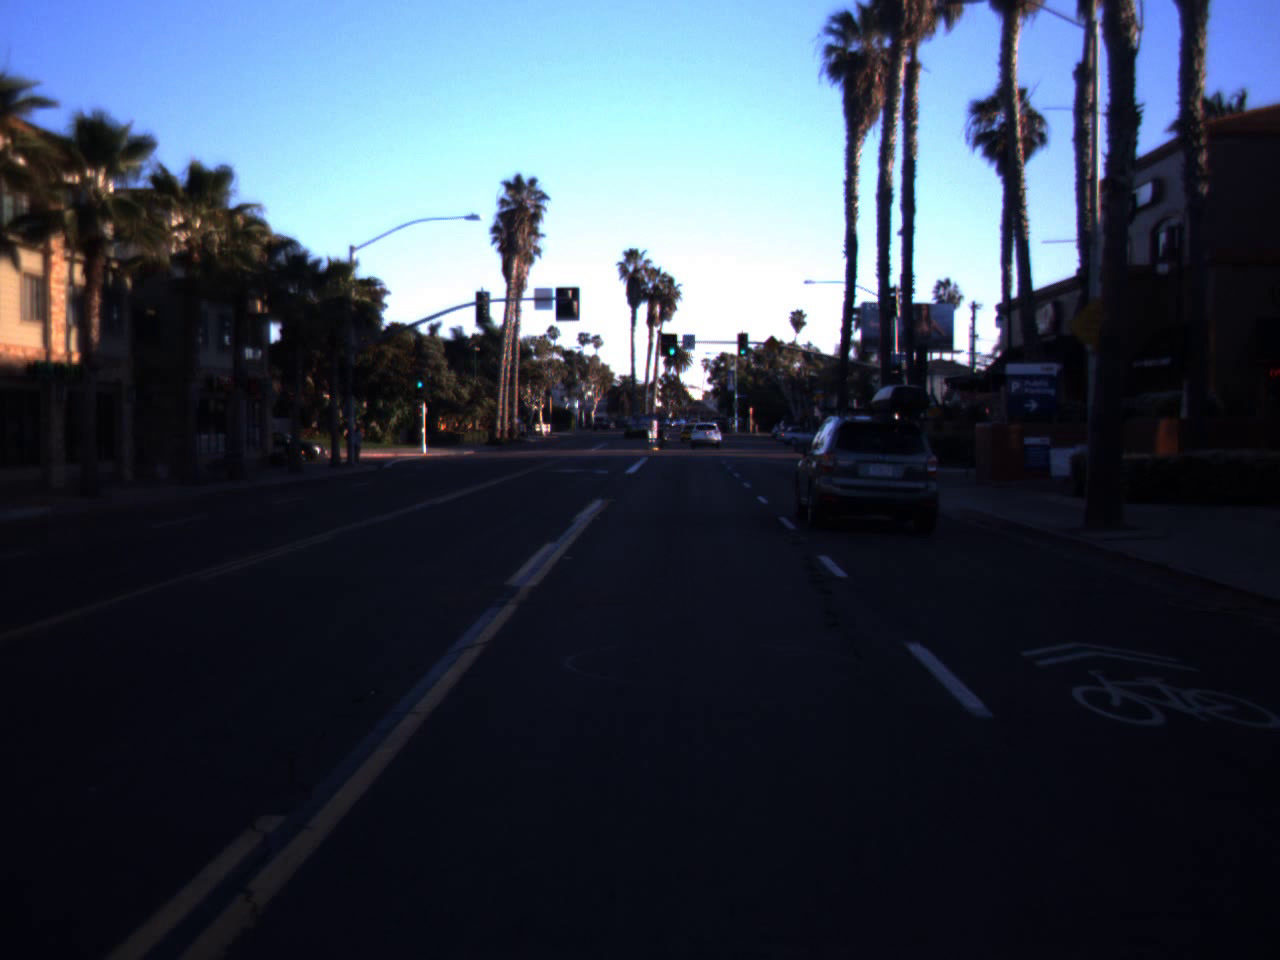go: (413, 368, 425, 388), (666, 336, 678, 356), (736, 336, 748, 356)
